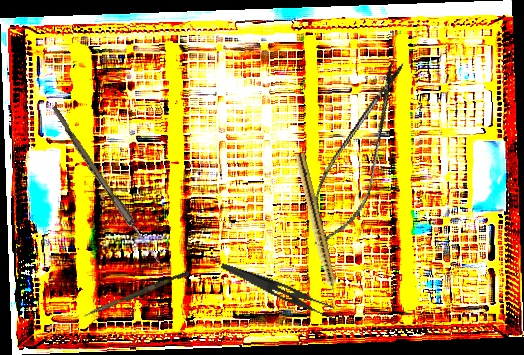Dressing Forceps: (216, 262, 342, 323)
Handpiece: (291, 152, 342, 303)
Micro Scissor: (296, 49, 421, 259)
Pusher: (83, 268, 190, 321)
Surgical Spoon: (48, 105, 165, 268)
